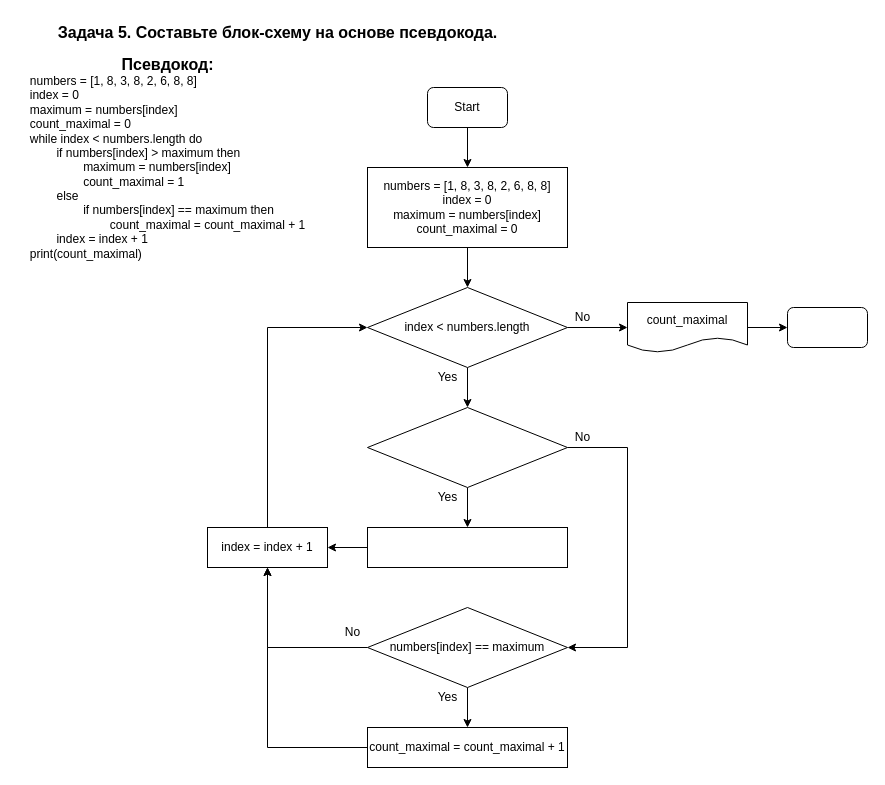
This 885x785 diagram has some shape labels left out. The centre of each missing label's shape, as x and y in pixels:
"Finish" belongs at point 827,327.
"maximum = numbers[index] count_maximal = 1" belongs at point 467,547.
"numbers[index] > maximum" belongs at point 467,447.
